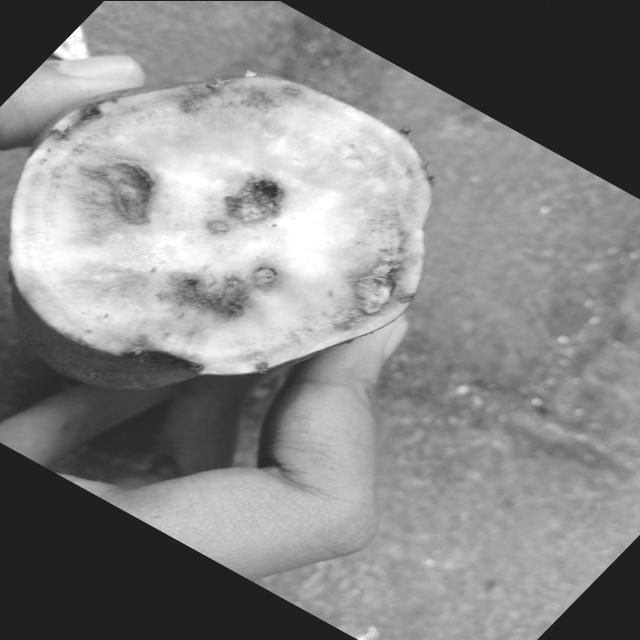Sick Sweet Potato_Tuber Rot: (10, 72, 435, 389)
